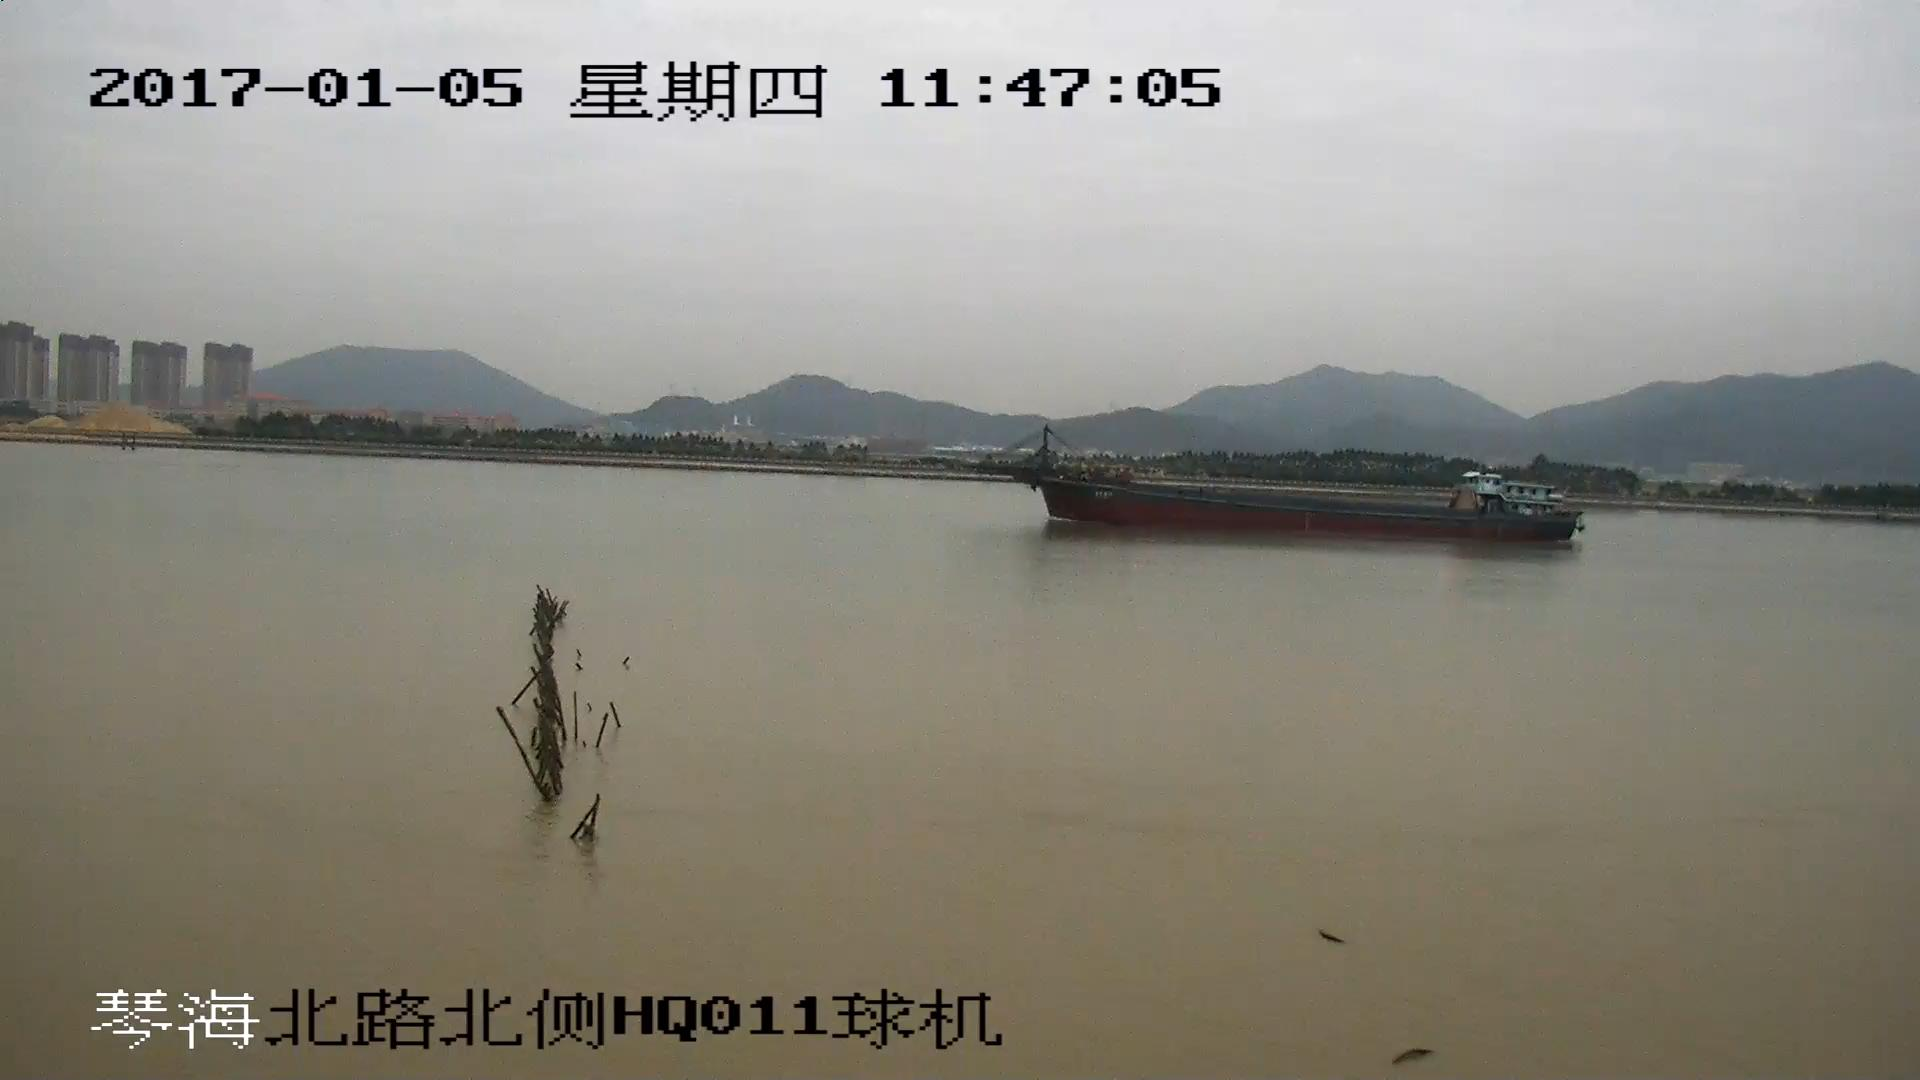bulk cargo carrier: (960, 430, 1585, 548)
